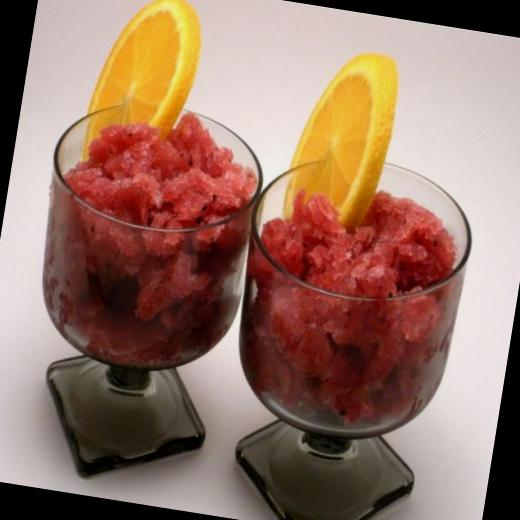Grape: (280, 43, 404, 238), (79, 0, 209, 177)
